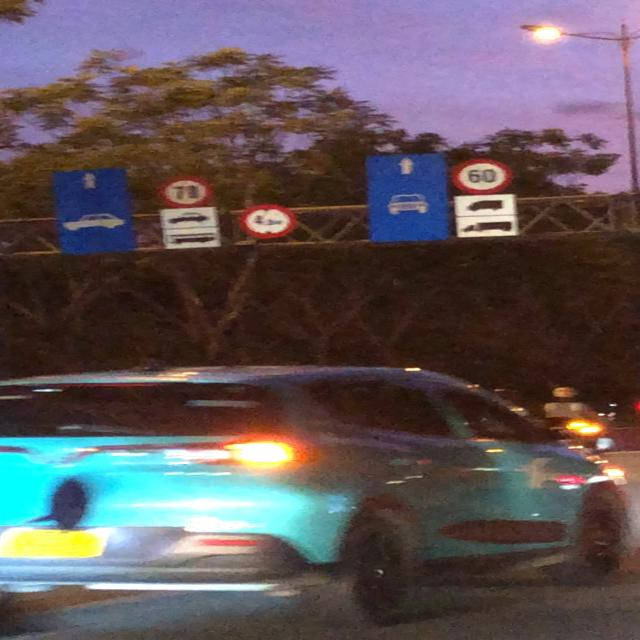Bien bao han che chieu cao: (239, 204, 304, 241)
Bien bao toc do toi da cho phep: (448, 156, 520, 198), (154, 175, 216, 210)
